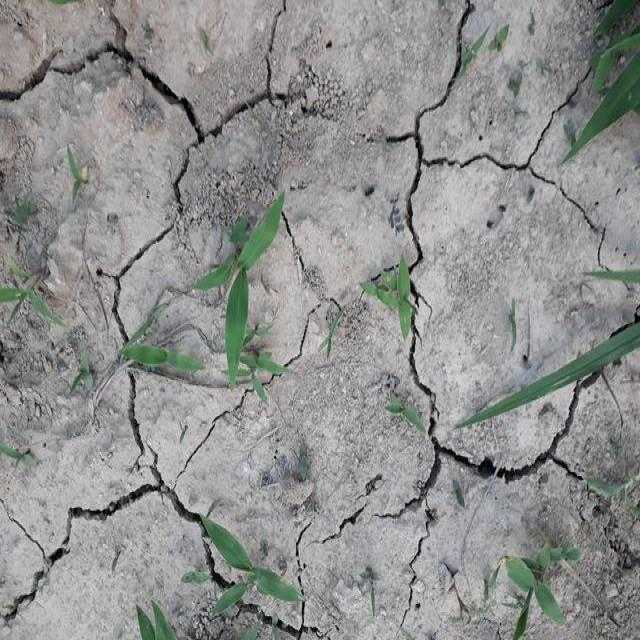weed: (200, 178, 284, 401), (197, 522, 315, 618), (502, 535, 590, 604)
